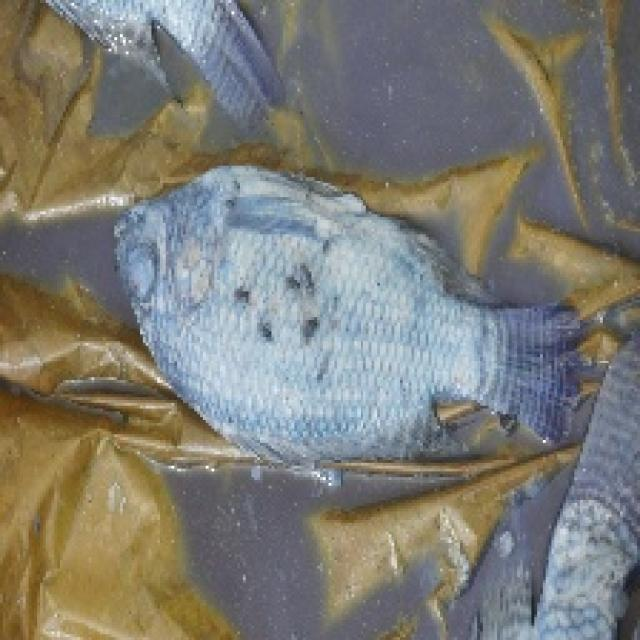Non-Fresh: (128, 174, 484, 452)
